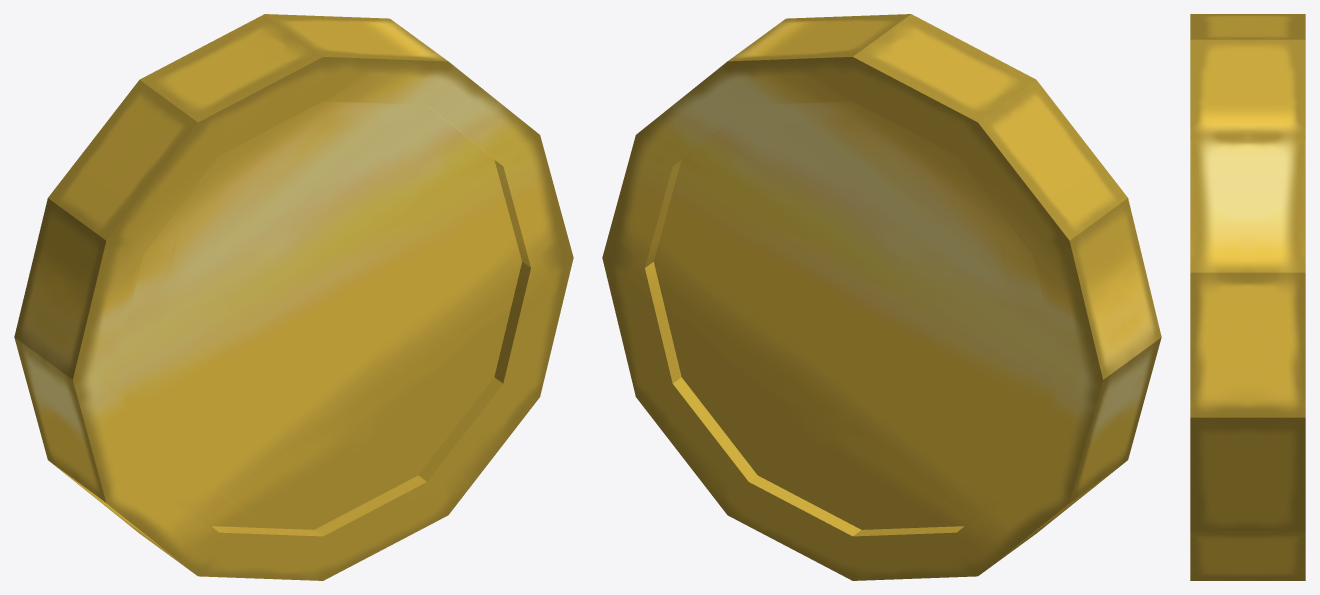
The model's file is coin.fbx.
3 views of the same model, side by side, from view 1: azimuth 30°, elevation 25°; view 2: azimuth 150°, elevation 25°; view 3: azimuth 270°, elevation 25° (orthographic).
Parts seen in each view (by area): view 1: coin; view 2: coin; view 3: coin.
Boxes of the visible parts, bbox=[...] form: coin: bbox=[14, 14, 573, 580]; coin: bbox=[602, 14, 1161, 580]; coin: bbox=[1190, 14, 1305, 580].
Size of the model in its own units: 100 by 100 by 20.23.
